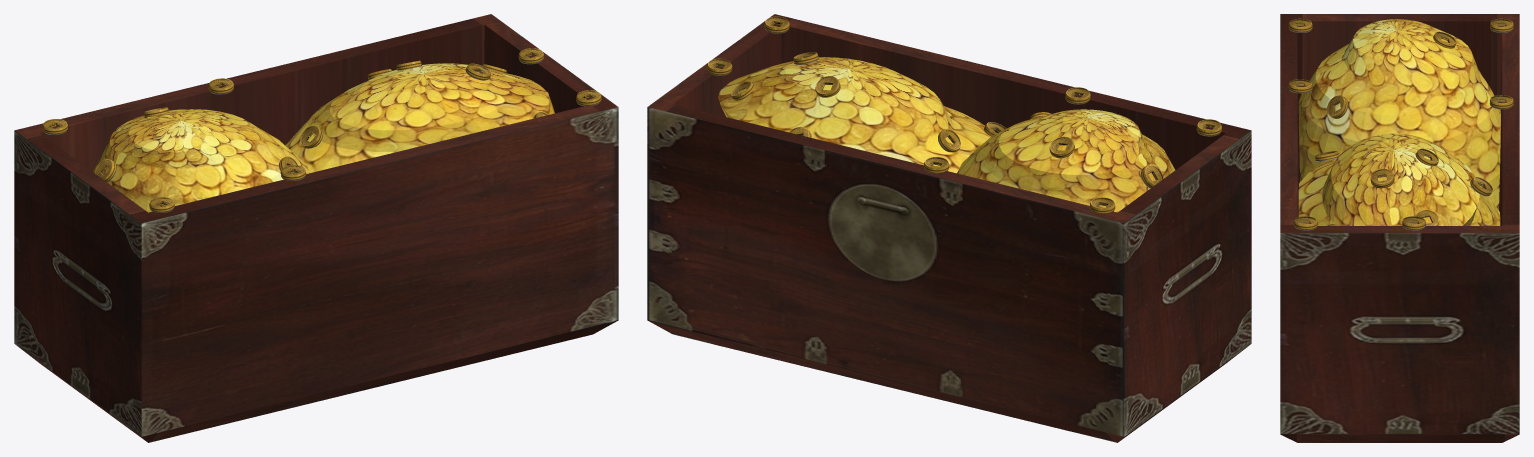
The model's file is ChestCoinsBody.fbx.
3 renders of one model, left to right at view 1: azimuth 30°, elevation 25°; view 2: azimuth 150°, elevation 25°; view 3: azimuth 270°, elevation 25°, orthographic. The views are drawn at different scales.
Visible parts, largest first — view 1: Chest, MountainGold2, MontainGold1; view 2: Chest, MountainGold2, MontainGold1; view 3: Chest, MontainGold1, MountainGold2, Coin.006, Coin.010, Coin.002, Coin.013, Coin.016, Coin.012, Coin.014, Coin.011, Coin.015 (+2 smaller).
Boxes of the visible parts, x1,y1,x2,y2 form: Chest: (14,14,618,442); MountainGold2: (285,63,554,172); MontainGold1: (93,109,309,212); Chest: (647,14,1251,442); MountainGold2: (718,57,991,173); MontainGold1: (957,109,1175,212); Chest: (1280,14,1519,442); MontainGold1: (1298,19,1500,210); MountainGold2: (1298,133,1500,225); Coin.006: (1327,95,1348,118); Coin.010: (1370,169,1394,188); Coin.002: (1470,176,1492,196); Coin.013: (1288,79,1312,93); Coin.016: (1489,95,1513,109); Coin.012: (1402,216,1425,230); Coin.014: (1288,18,1312,32); Coin.011: (1294,216,1317,230); Coin.015: (1490,18,1513,32).
Bounding box in the file's own units: 433 × 228 × 200.
Materials: 20 (20 with a texture image).
